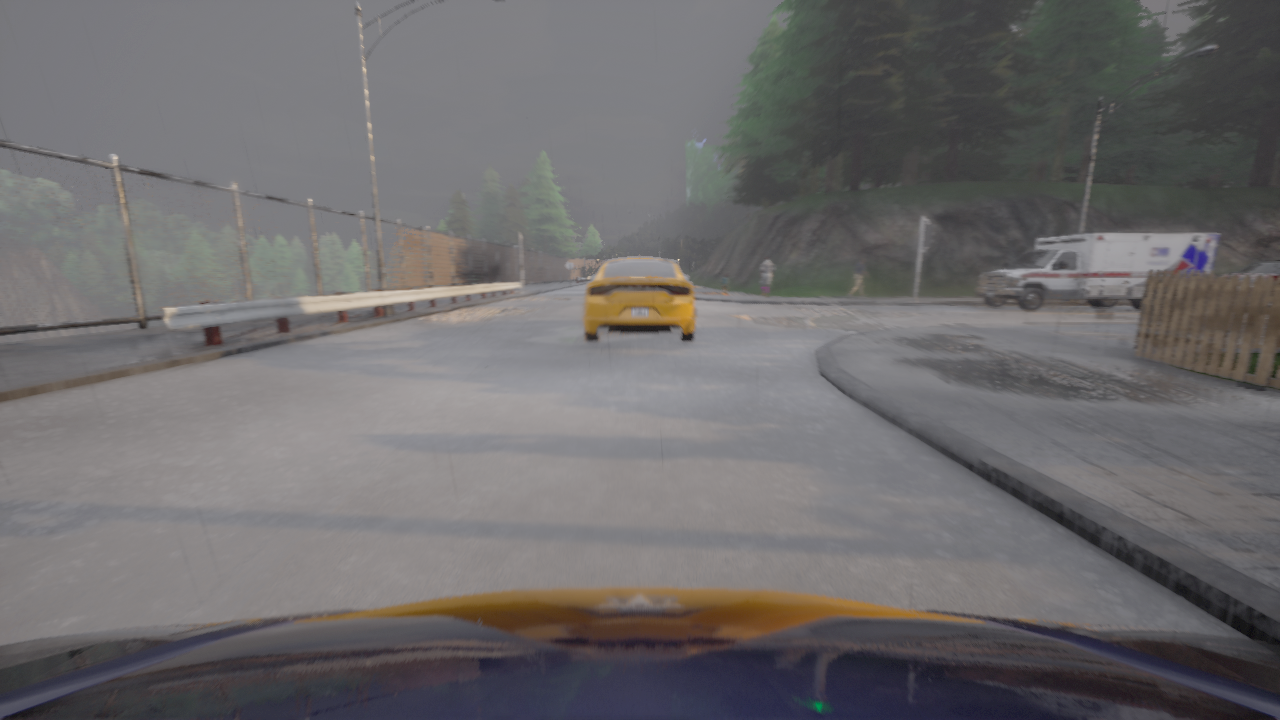cyclist: (0, 588, 1279, 719), (976, 233, 1220, 310), (584, 256, 695, 341), (1211, 260, 1279, 306)
pedestrian: (848, 257, 869, 297), (760, 257, 774, 297), (722, 274, 728, 295)
